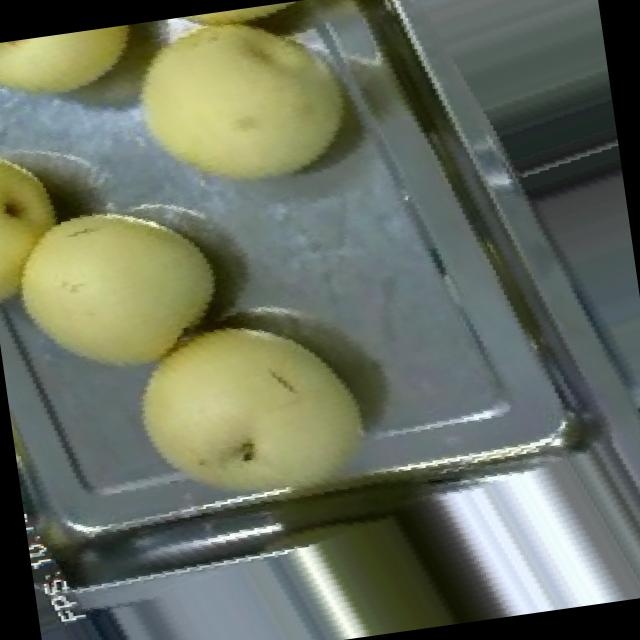Fruit: (95, 270, 406, 527), (103, 0, 396, 237), (0, 162, 255, 412), (0, 20, 168, 127)
